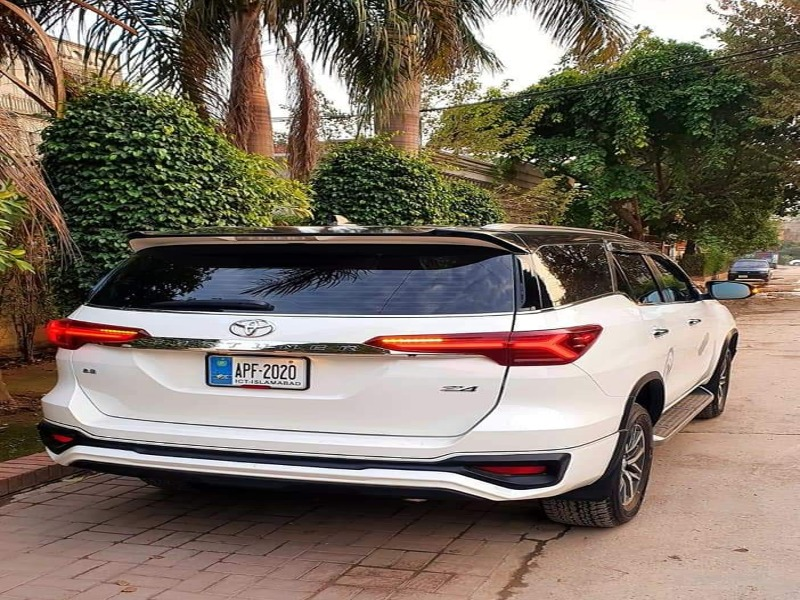License Plate: (205, 352, 314, 394)
